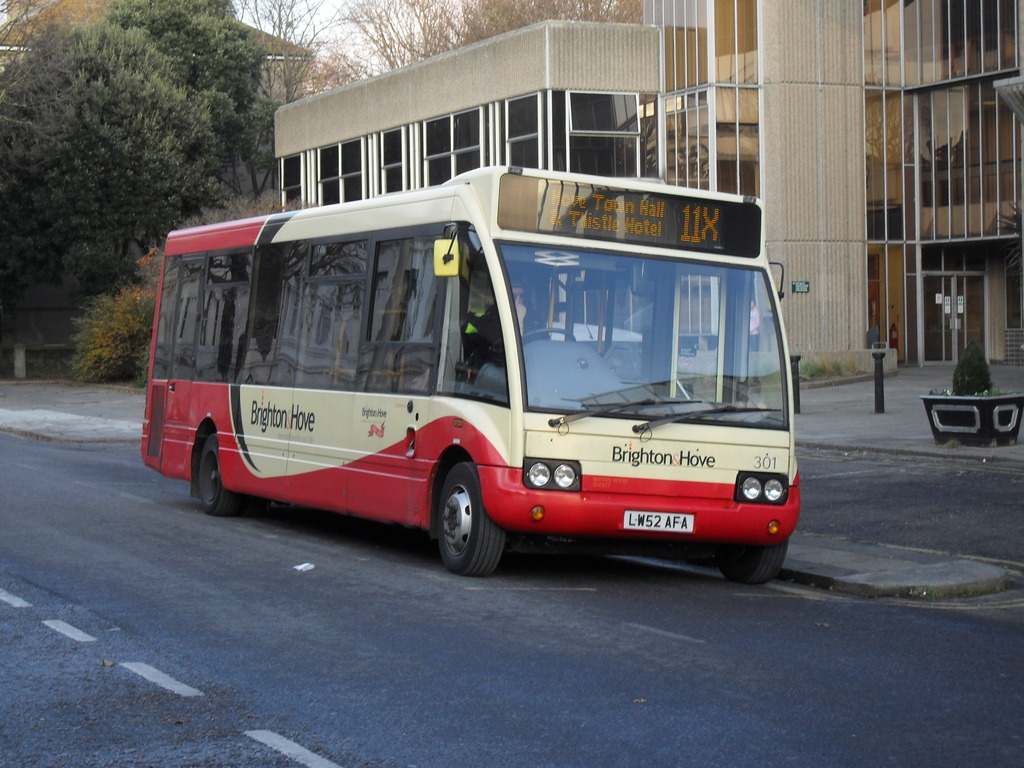Bus: (140, 165, 802, 584)
